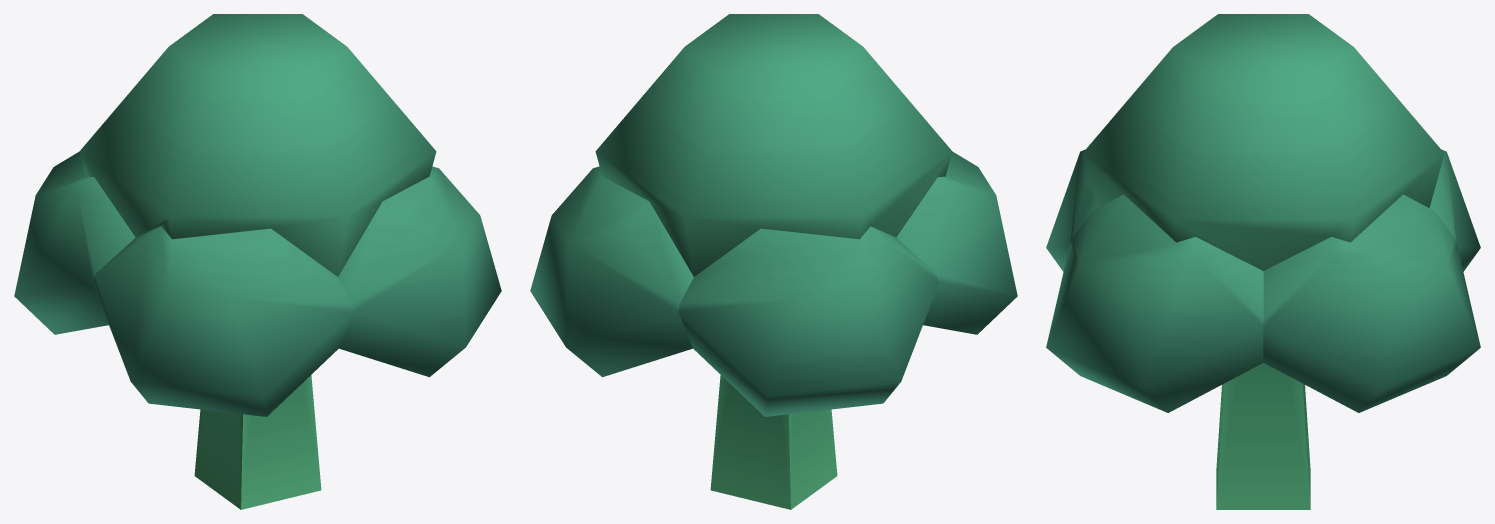
The model's file is tree_model.glb.
3 views of the same model, side by side, from view 1: azimuth 30°, elevation 25°; view 2: azimuth 150°, elevation 25°; view 3: azimuth 270°, elevation 25° (orthographic).
Visible parts, largest first — view 1: broccoli; view 2: broccoli; view 3: broccoli.
Boxes of the visible parts, bbox=[...] form: broccoli: bbox=[14, 14, 501, 509]; broccoli: bbox=[530, 14, 1017, 509]; broccoli: bbox=[1046, 14, 1480, 509].
Size of the model in its own units: 8.61 by 9.68 by 8.61.
1 material, 1 textured.
